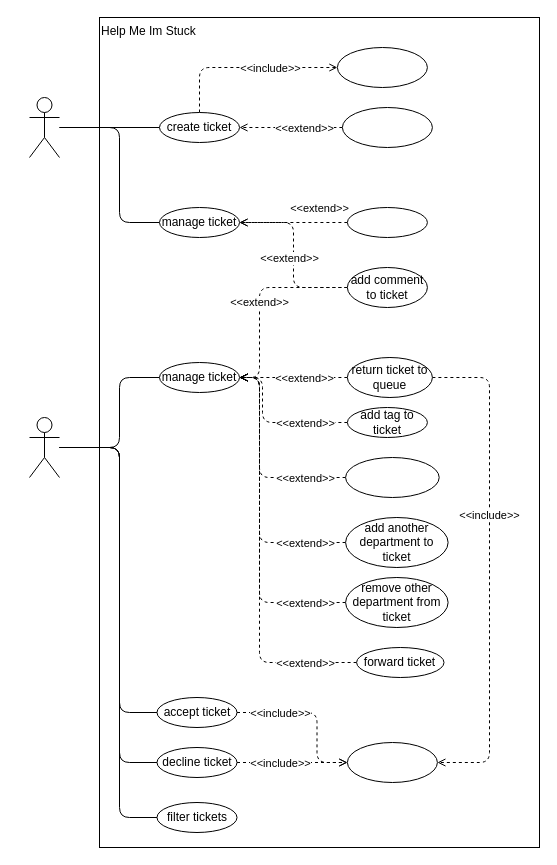
The diagram is 557 pixels wide and 865 high, and some of its shapes have lost their labels. The shapes that lost their labels are listed below. From the top down, each one's centre as x and y in pixels, then its label:
pixel 381 67: add title to ticket
pixel 44 127: Requester
pixel 386 127: add description to ticket
pixel 386 222: pull ticket back
pixel 44 447: Supporter
pixel 392 477: remove tag from ticket
pixel 391 762: change status of ticket
